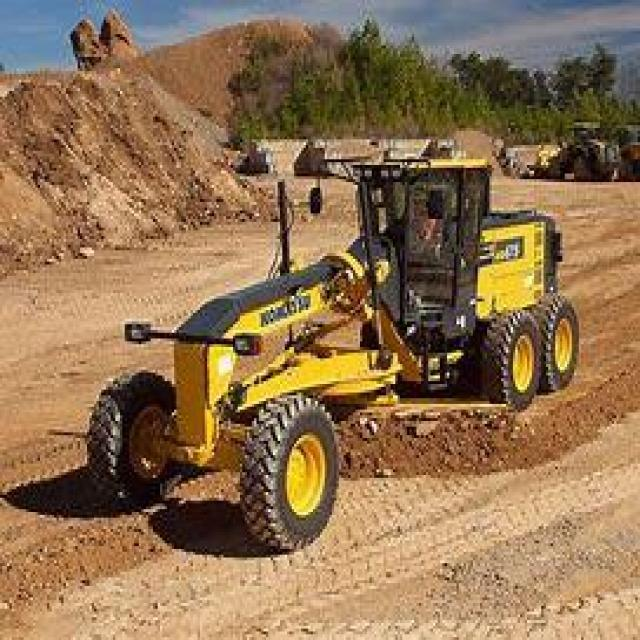Grader: (77, 148, 618, 555)
